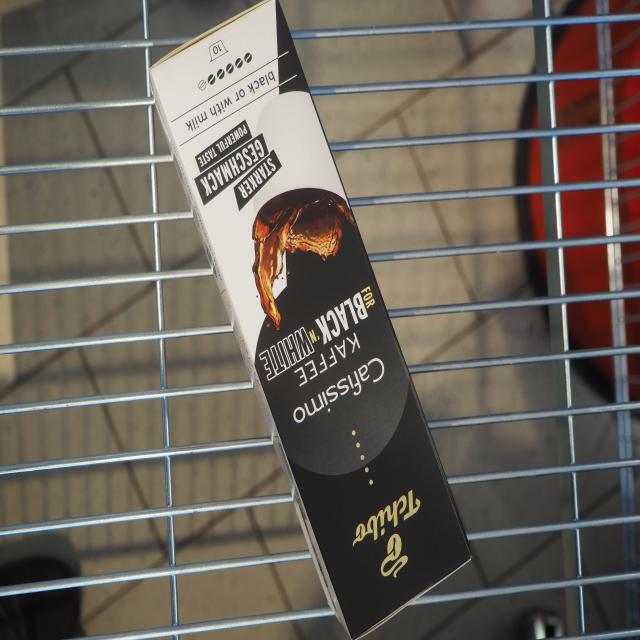Simo Kaffee BW: (143, 0, 479, 640)
